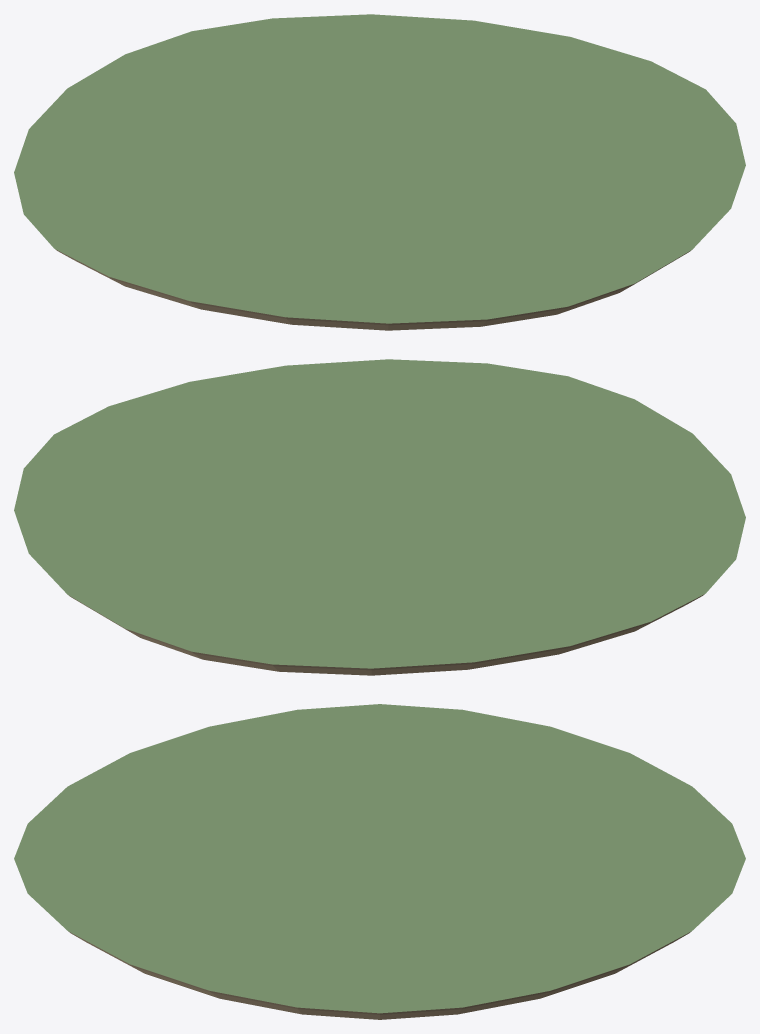
The model's file is Island_Pad_04.glb.
3 renders of one model, top to bottom at view 1: azimuth 30°, elevation 25°; view 2: azimuth 150°, elevation 25°; view 3: azimuth 270°, elevation 25°, orthographic. The views are drawn at different scales.
Visible parts, largest first — view 1: Island_Pad_04; view 2: Island_Pad_04; view 3: Island_Pad_04.
Boxes of the visible parts, x1,y1,x2,y2 form: Island_Pad_04: (14, 14, 745, 330); Island_Pad_04: (14, 359, 745, 675); Island_Pad_04: (14, 704, 745, 1019).
Size of the model in its own units: 92 by 2.2 by 92.
